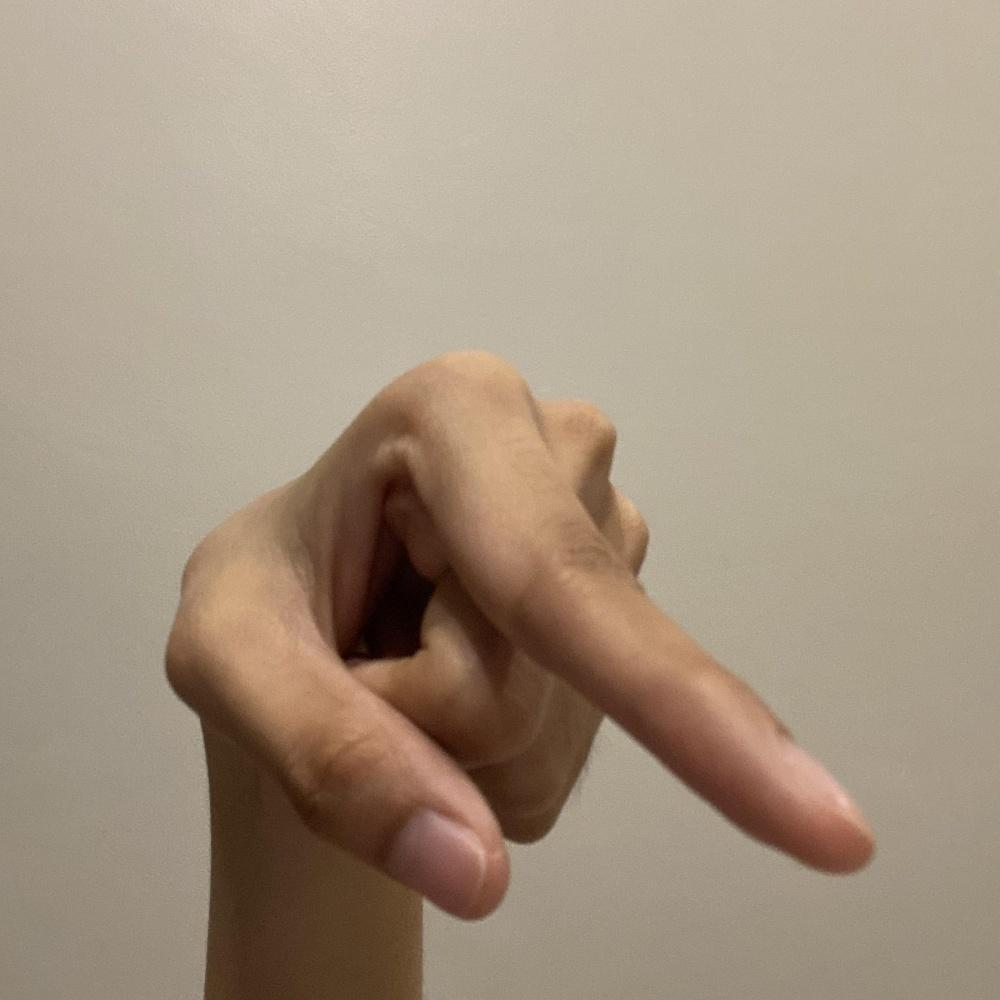z: (159, 343, 888, 929)
